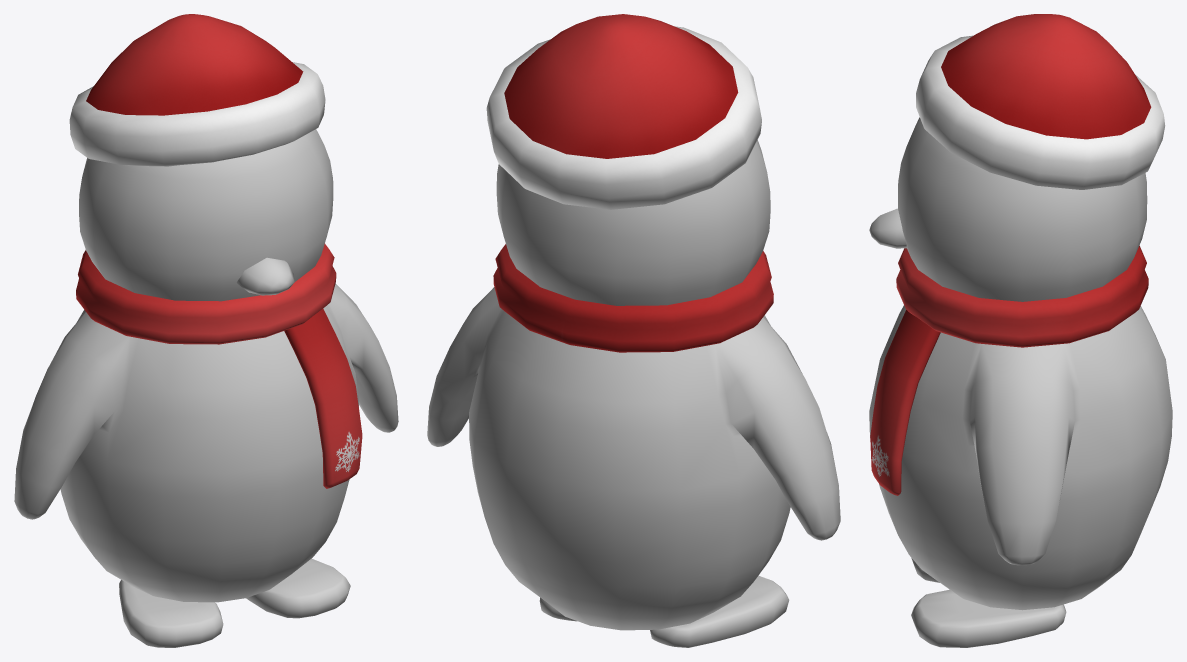
File: SM_Penguin1.FBX
3 renders of one model, left to right at view 1: azimuth 30°, elevation 25°; view 2: azimuth 150°, elevation 25°; view 3: azimuth 270°, elevation 25°, orthographic. The views are drawn at different scales.
Visible parts, largest first — view 1: SM_Penguin1Body, SM_Penguin1Accessories; view 2: SM_Penguin1Body, SM_Penguin1Accessories; view 3: SM_Penguin1Body, SM_Penguin1Accessories.
Part boxes in pixels (x1,y1,x2,y2): SM_Penguin1Body: (14,129,398,647); SM_Penguin1Accessories: (69,14,362,488); SM_Penguin1Body: (427,140,840,647); SM_Penguin1Accessories: (486,14,773,352); SM_Penguin1Body: (869,117,1172,647); SM_Penguin1Accessories: (870,14,1165,495).
Size of the model in its own units: 49.07 by 70.67 by 33.58.
